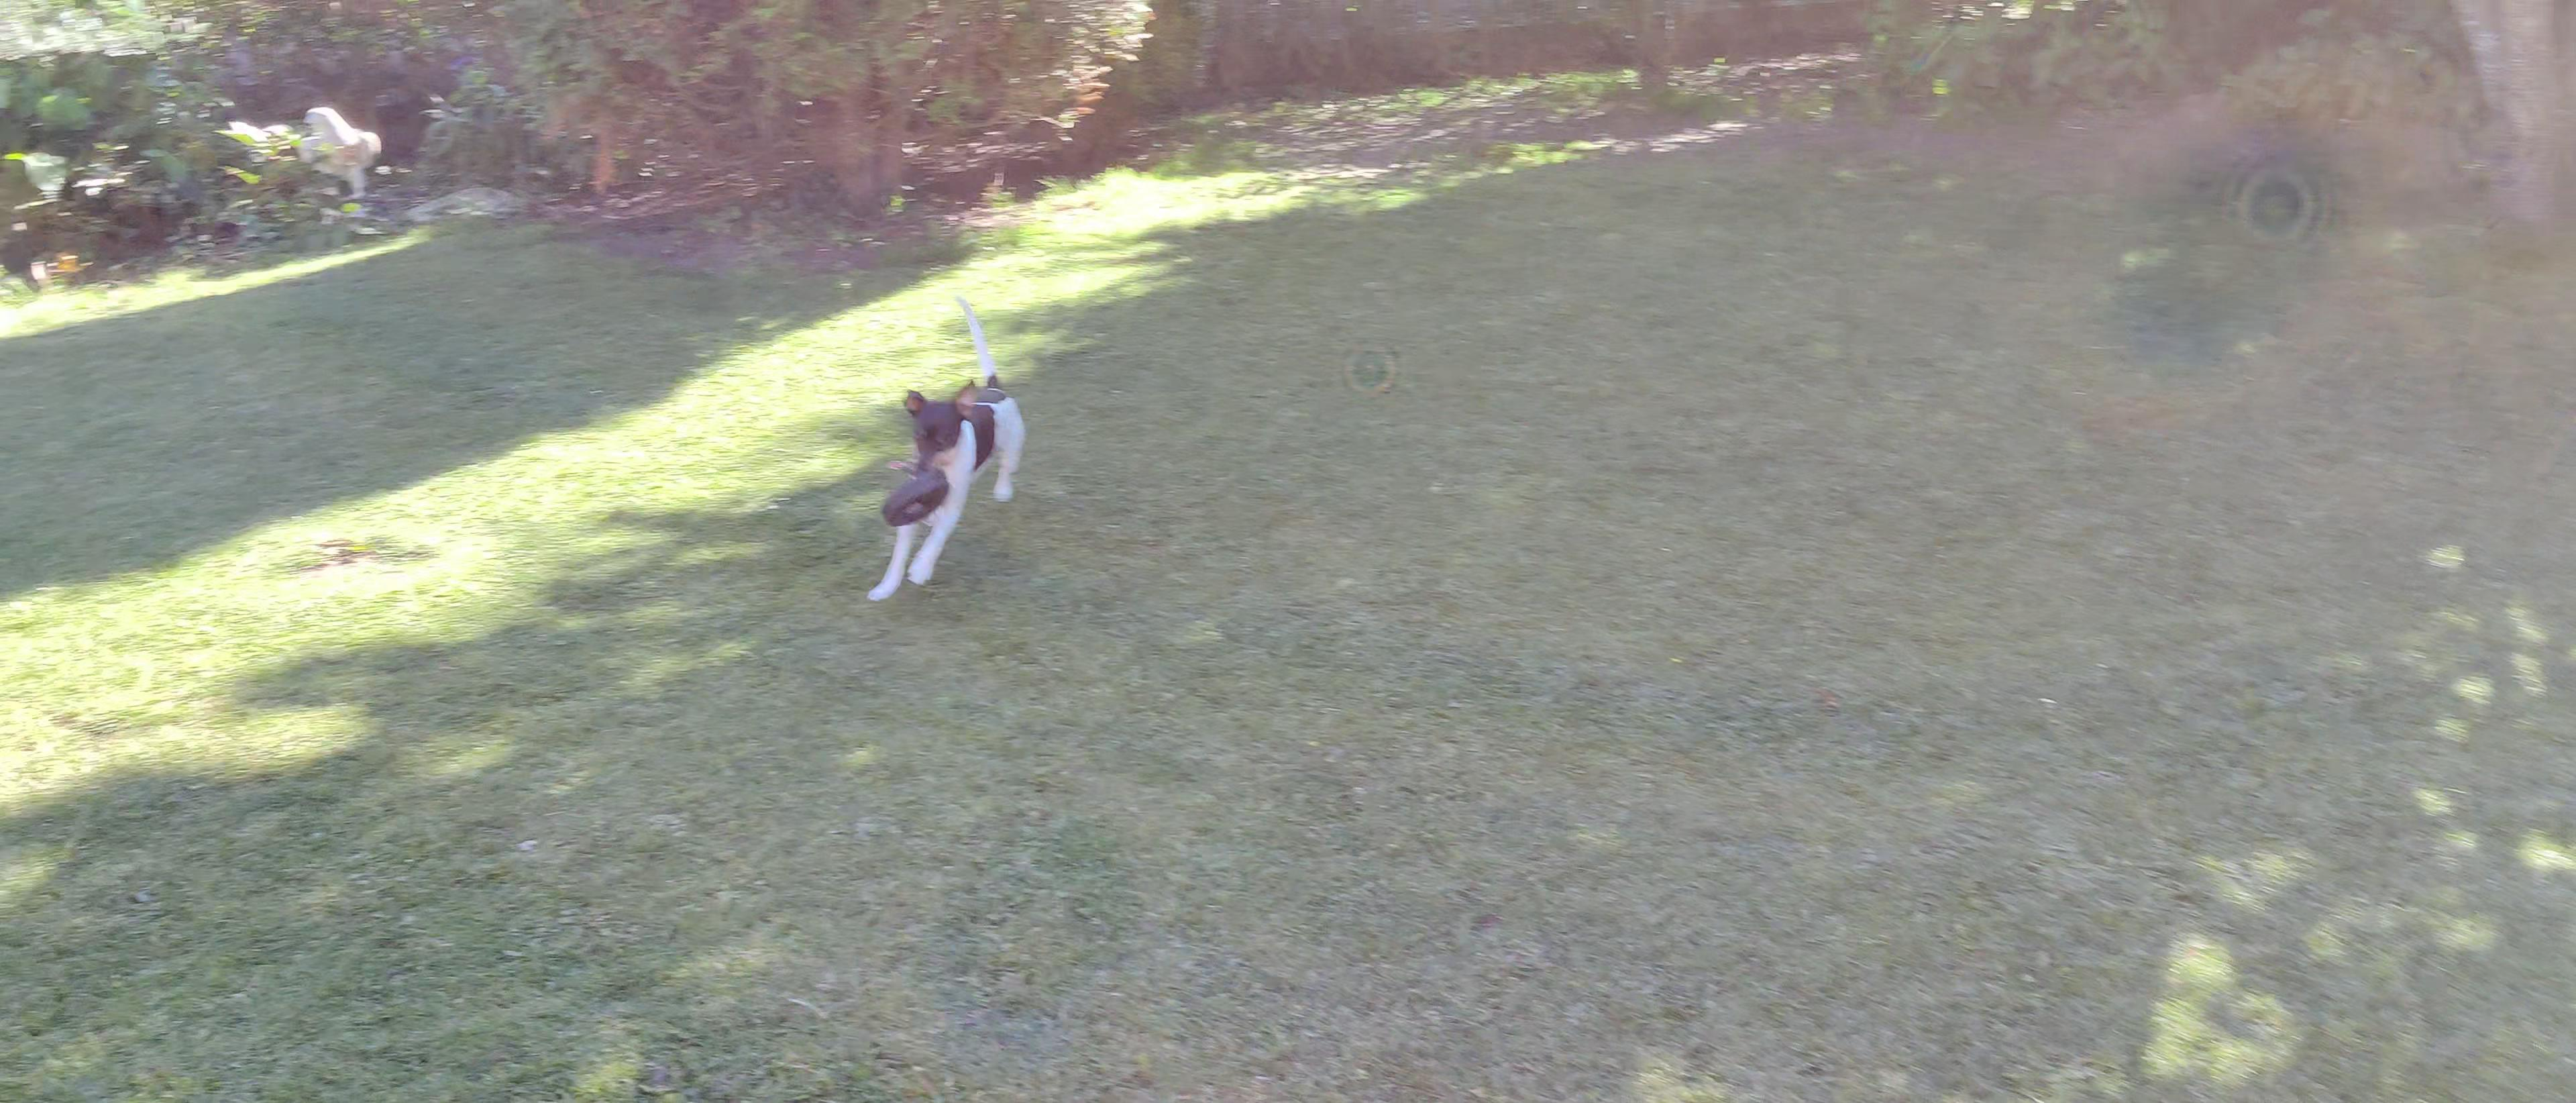Dog: (858, 281, 1032, 613)
